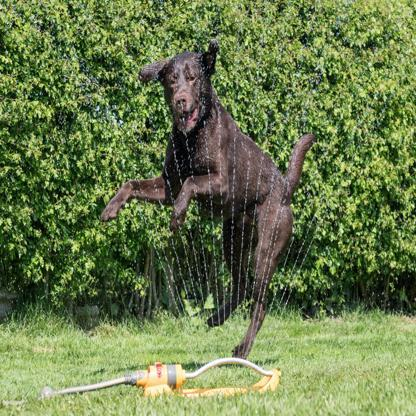dog: (96, 44, 324, 375)
